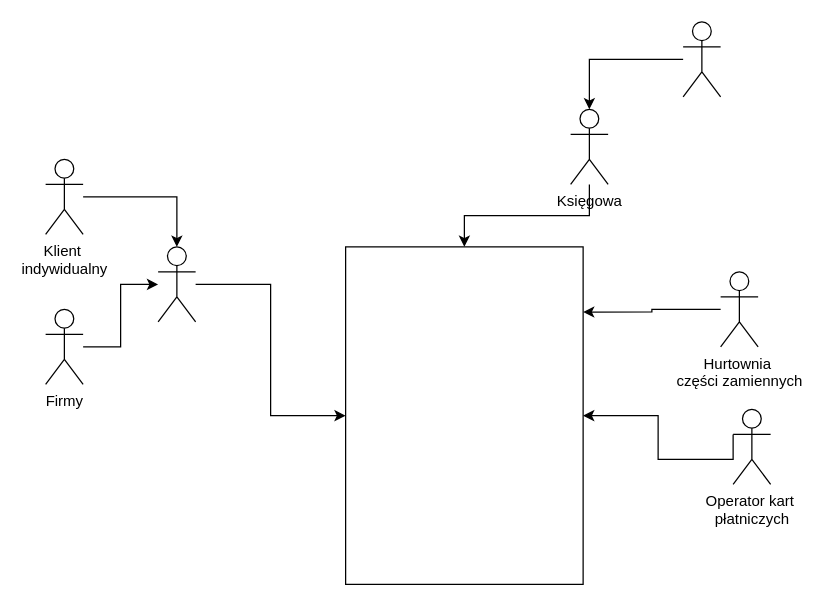
Image size: 824x606. Some labels were removed from this diagram. The shapes that lost their labels are listed below. From the top down, each one's box as (x1, y1, x2, y2) in pixels, then its label:
(682, 21, 721, 97): Urząd skarbowy
(157, 246, 196, 322): klient
(344, 246, 583, 584): Firma IT
